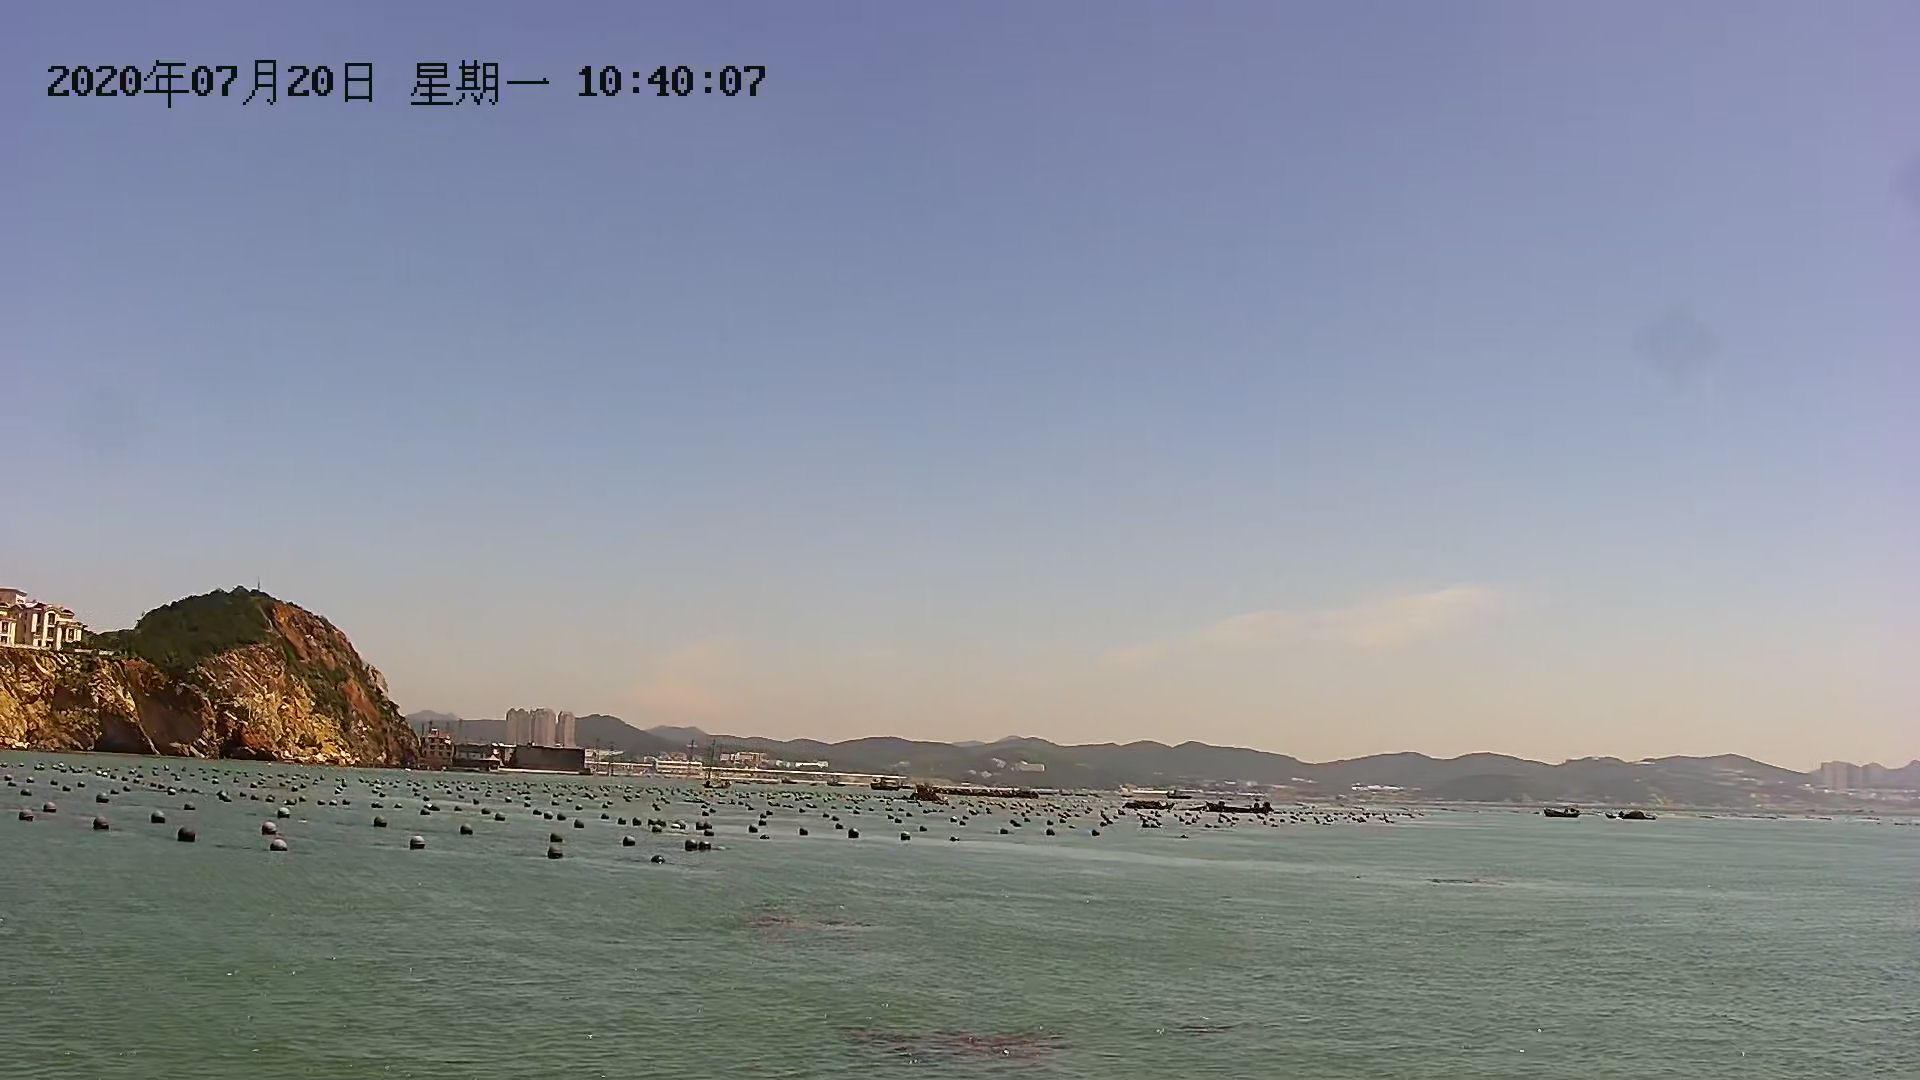ball: (173, 822, 200, 849), (88, 812, 113, 836), (407, 831, 429, 855), (266, 836, 290, 856), (543, 841, 564, 861), (680, 839, 702, 858), (15, 806, 38, 823), (618, 832, 640, 851), (699, 836, 713, 855)
